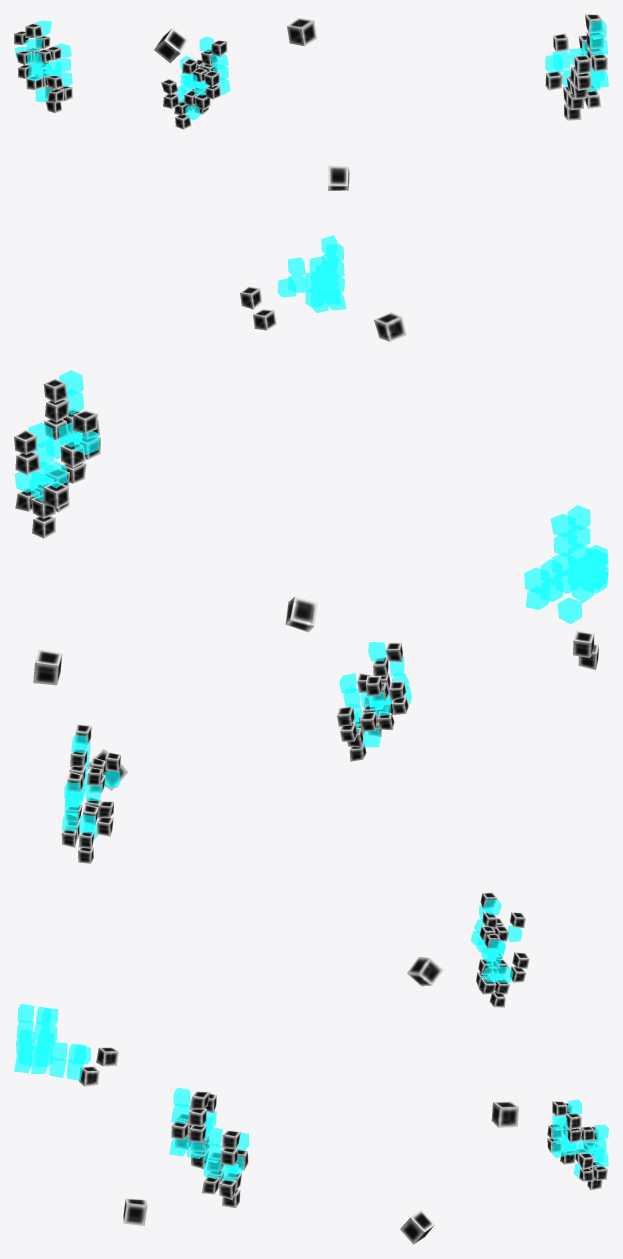
The model's file is p_mesh_controlstation_hologram_clustercubes.fbx.
3 views of the same model, one above another, from view 1: azimuth 30°, elevation 25°; view 2: azimuth 150°, elevation 25°; view 3: azimuth 270°, elevation 25° (orthographic). The views are drawn at different scales.
Parts seen in each view (by area): view 1: hologram1_cubes01; view 2: hologram1_cubes01; view 3: hologram1_cubes01.
Boxes of the visible parts, x1,y1,x2,y2 form: hologram1_cubes01: [14, 14, 608, 341]; hologram1_cubes01: [14, 370, 608, 863]; hologram1_cubes01: [14, 892, 608, 1244].
Bounding box in the file's own units: 6.87 × 3.55 × 7.72.
